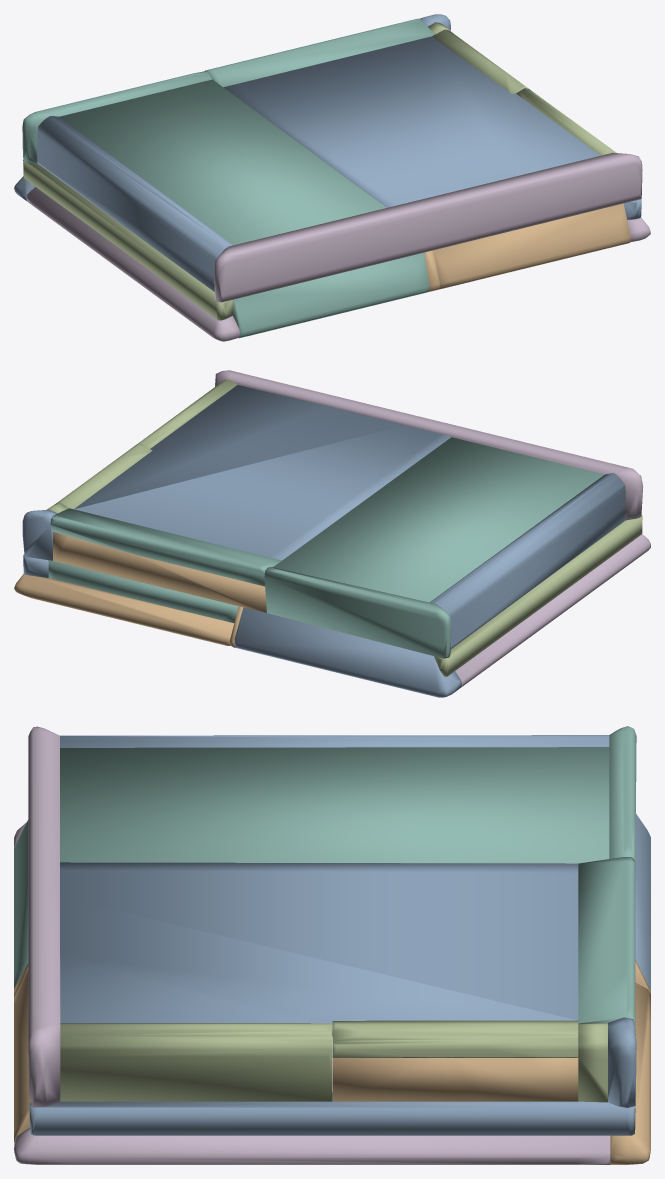
3 renders of one model, top to bottom at view 1: azimuth 30°, elevation 25°; view 2: azimuth 150°, elevation 25°; view 3: azimuth 270°, elevation 25°, orthographic. The views are drawn at different scales.
Size of the model in its own units: 1.56 by 0.2787 by 1.28.
